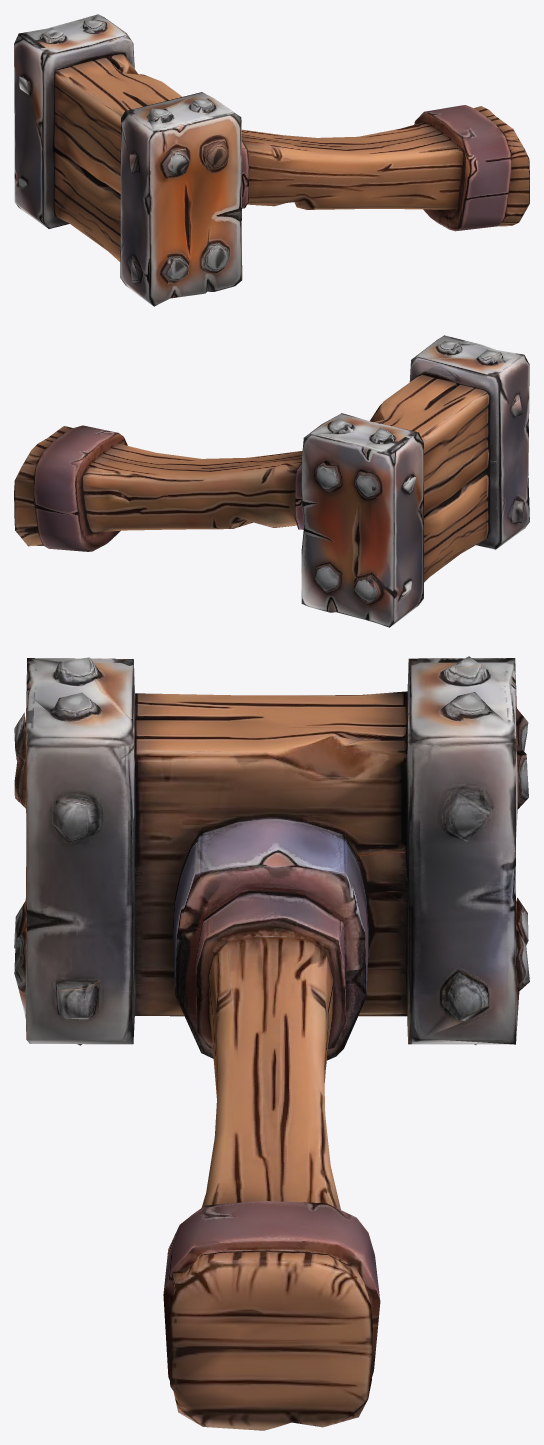
File: hammer1.glb
3 views of the same model, one above another, from view 1: azimuth 30°, elevation 25°; view 2: azimuth 150°, elevation 25°; view 3: azimuth 270°, elevation 25° (orthographic). The views are drawn at different scales.
Size of the model in its own units: 2 by 1.07 by 1.16.
Materials: 1 (1 with a texture image).
